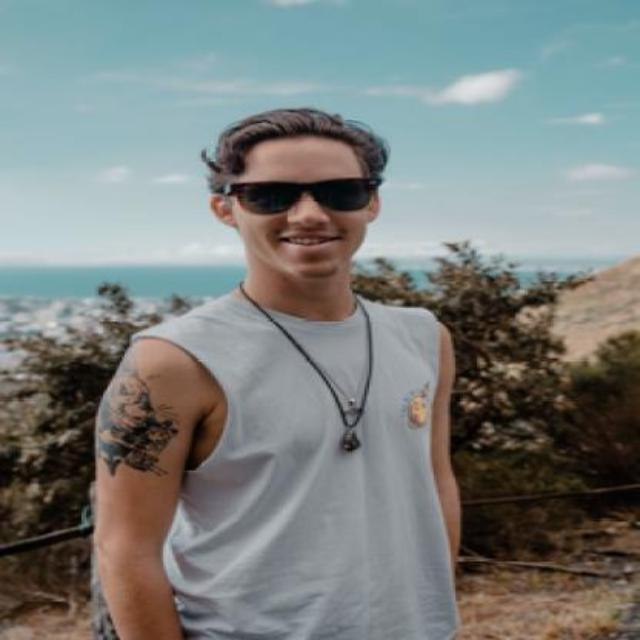glasses: (224, 177, 386, 213)
